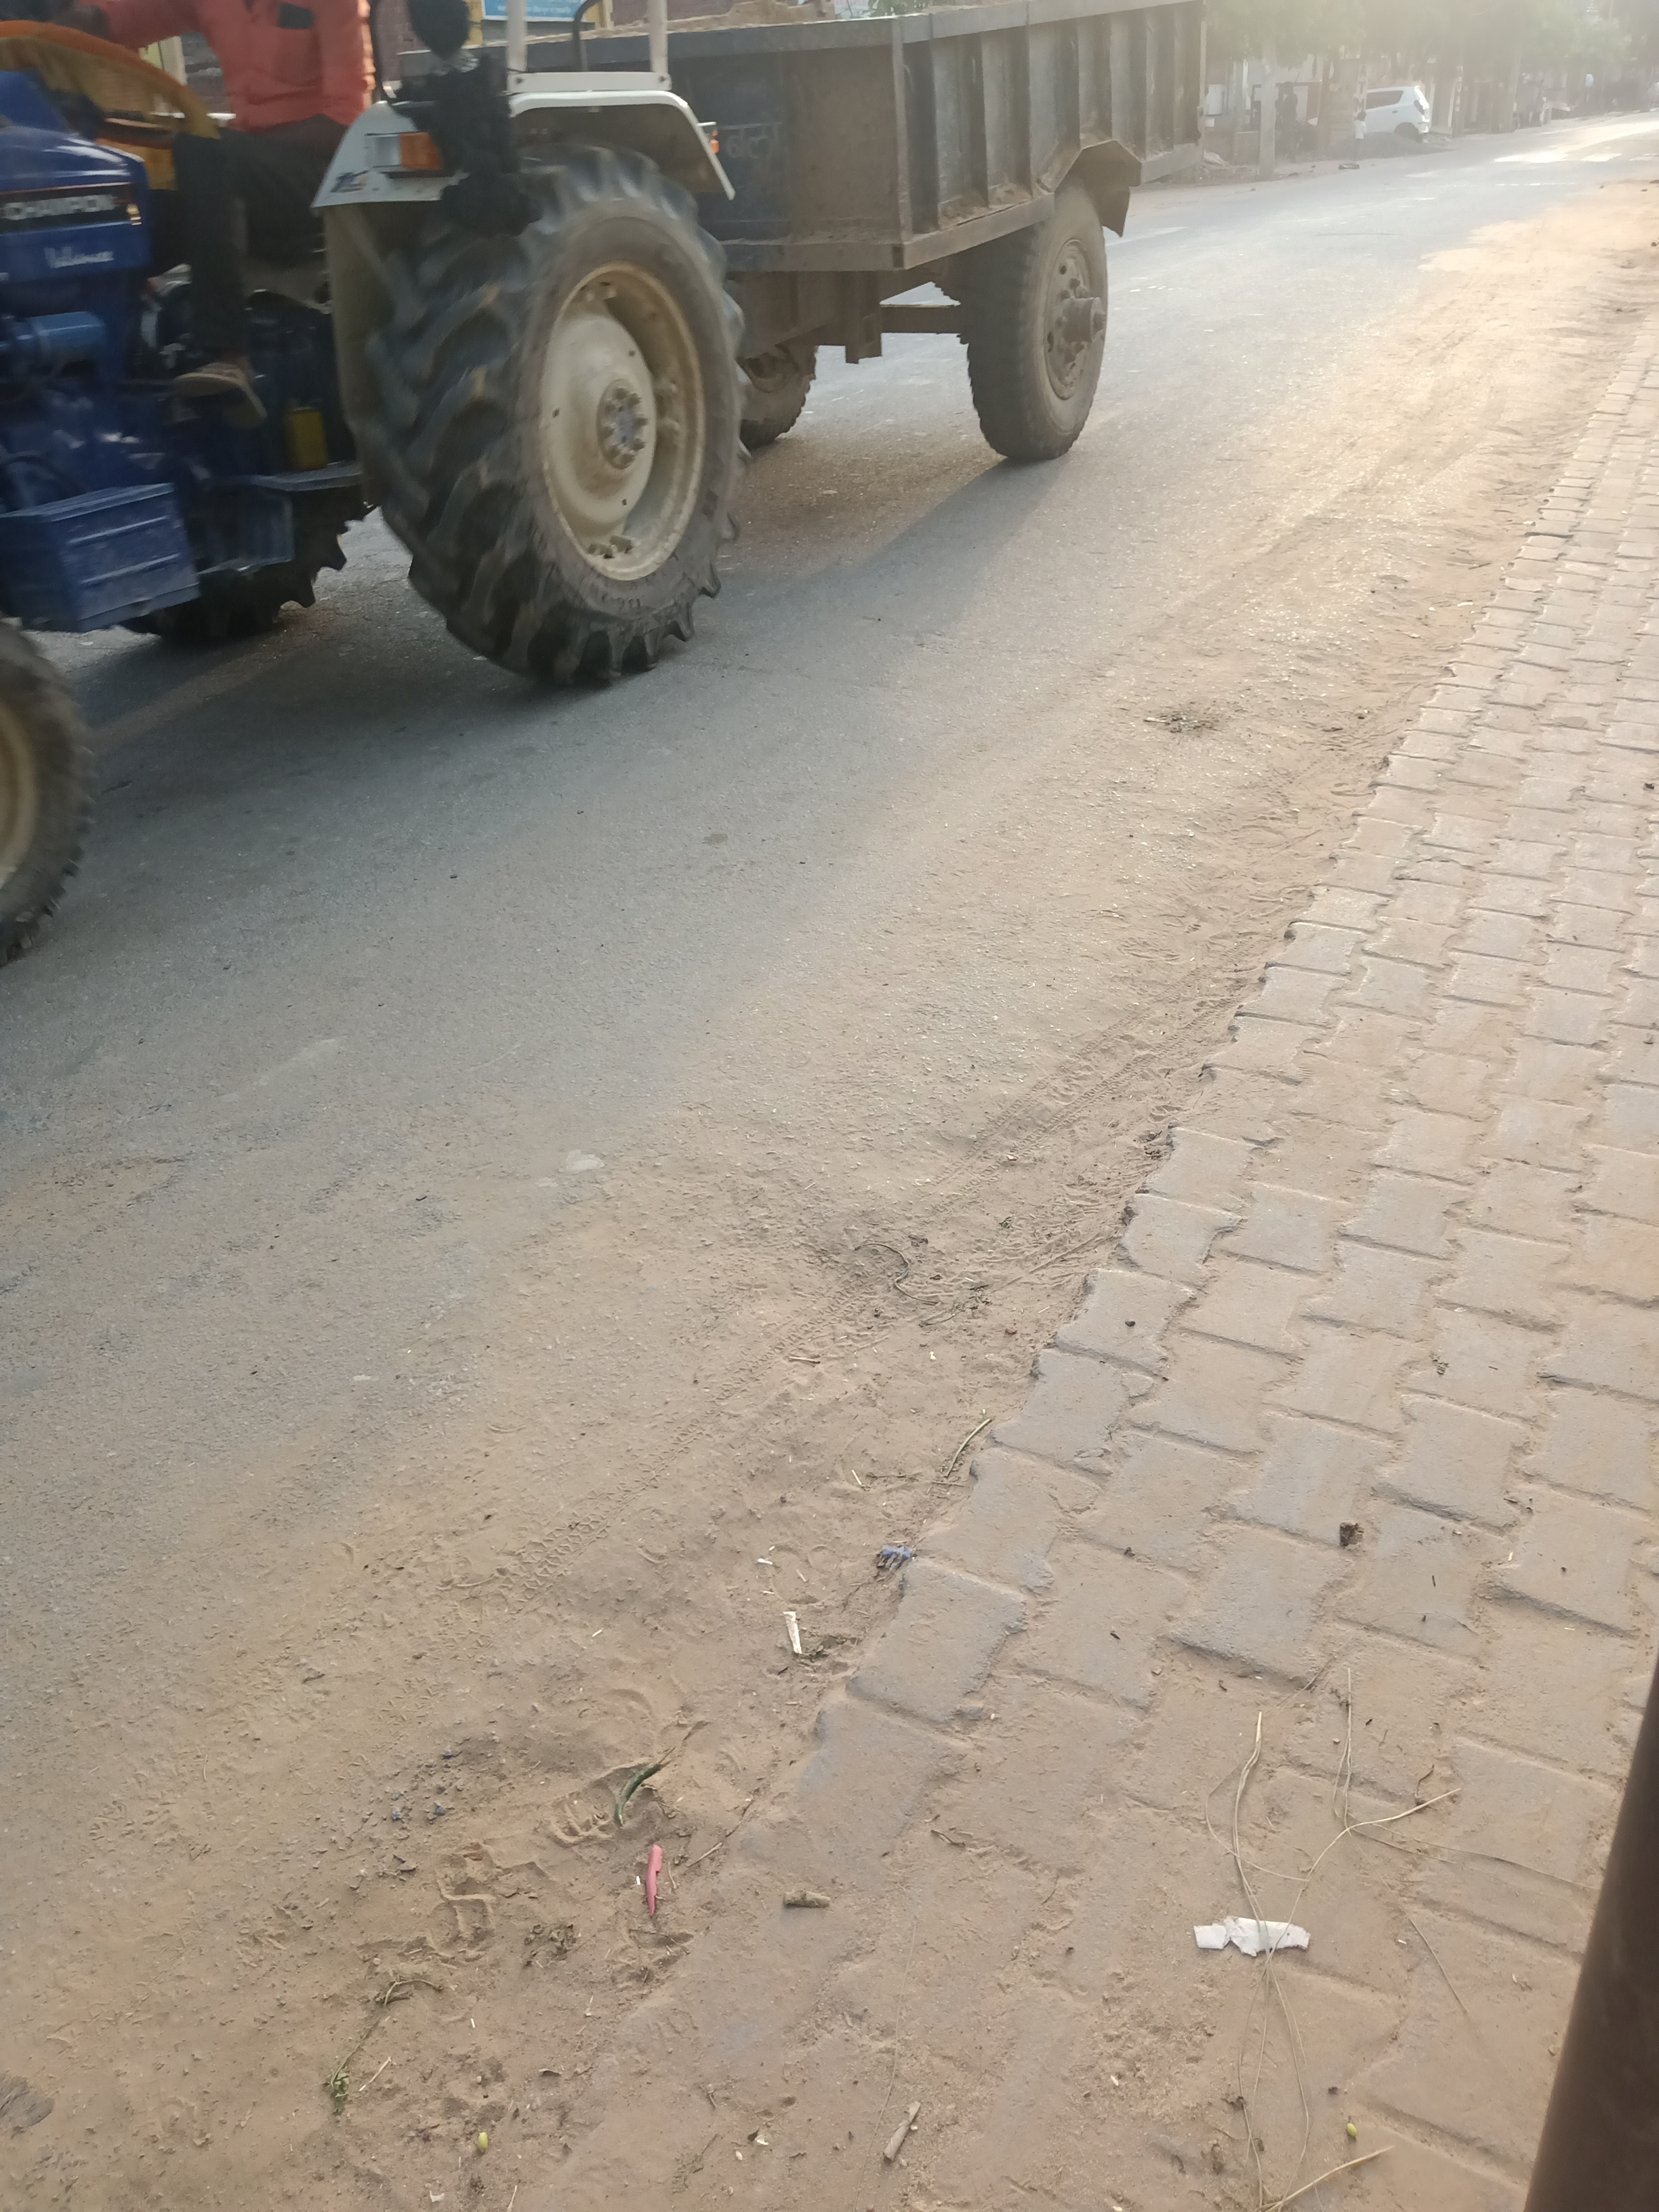tractor: (0, 0, 1211, 974)
